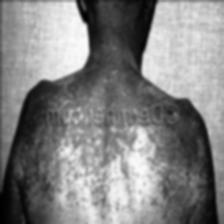Non-Cancerous Skin Condition: (23, 127, 197, 224)
